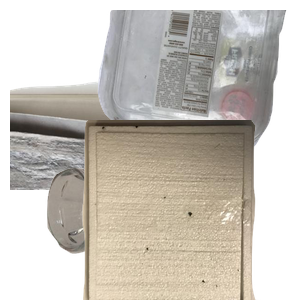glass: (44, 165, 178, 300)
paper: (10, 77, 250, 257)
plastic: (95, 10, 300, 154)
trash: (80, 120, 300, 300)
